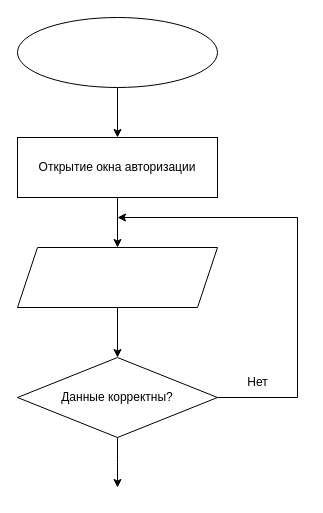
Image size: 323x513. Some labels were removed from this diagram. The centre of each missing label's shape, as x and y in pixels:
"Ввод логина и пароля" goes at point (117, 277).
"Запуск программы" goes at point (117, 52).
